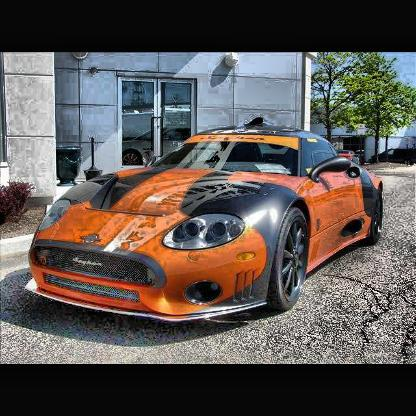Spyker C8 Convertible 2009: (23, 119, 388, 331)
